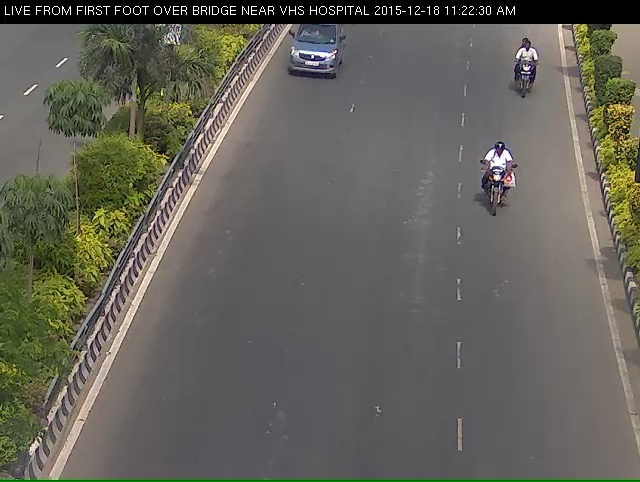Car: (281, 24, 342, 90)
Person: (479, 145, 520, 229), (511, 38, 540, 108)
